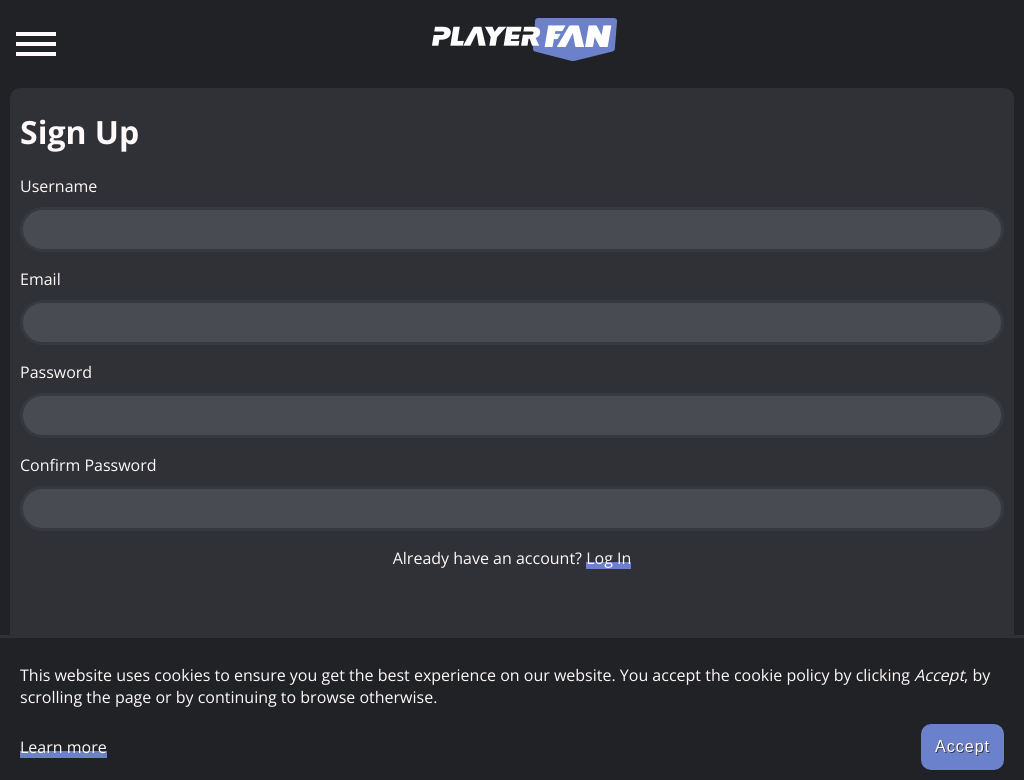
it: /signup › requires a valid email
Type "a" into the field named "email" below "Email".
click(512, 323); type("a")  # box [20,300,1004,345]
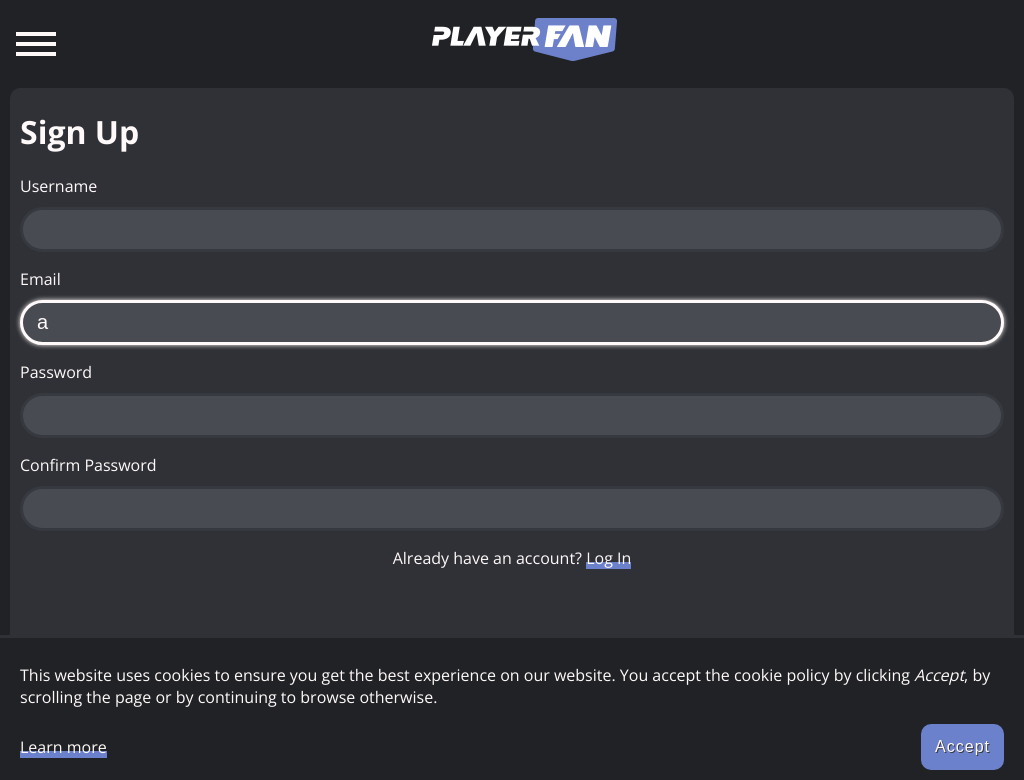
Click the heading "Sign Up".
click(80, 132)  # box [20,110,139,153]
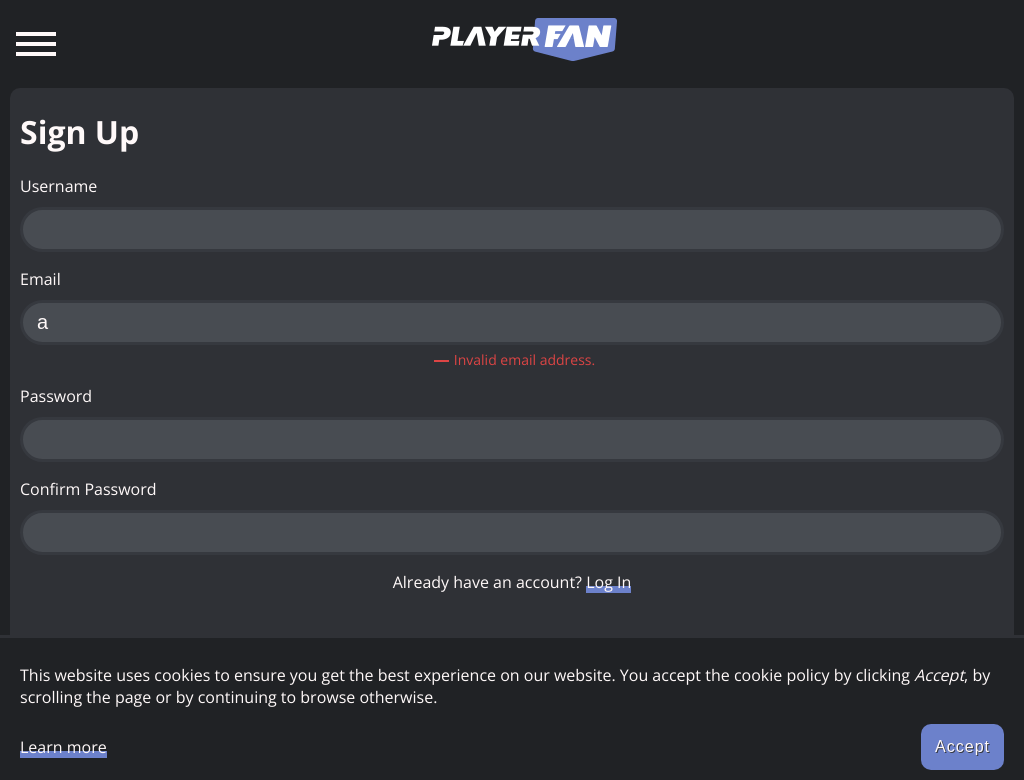
Now the text with test id "form-error" shows "Invalid email address", box [454,350,595,369]
